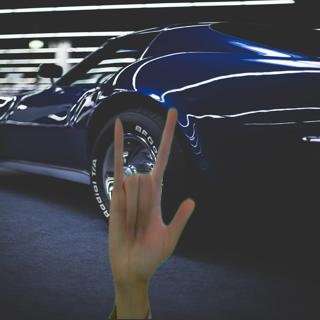ILY: (104, 104, 199, 291)
